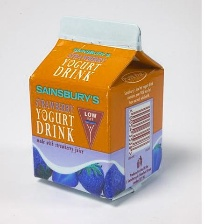carton: (23, 12, 167, 208)
